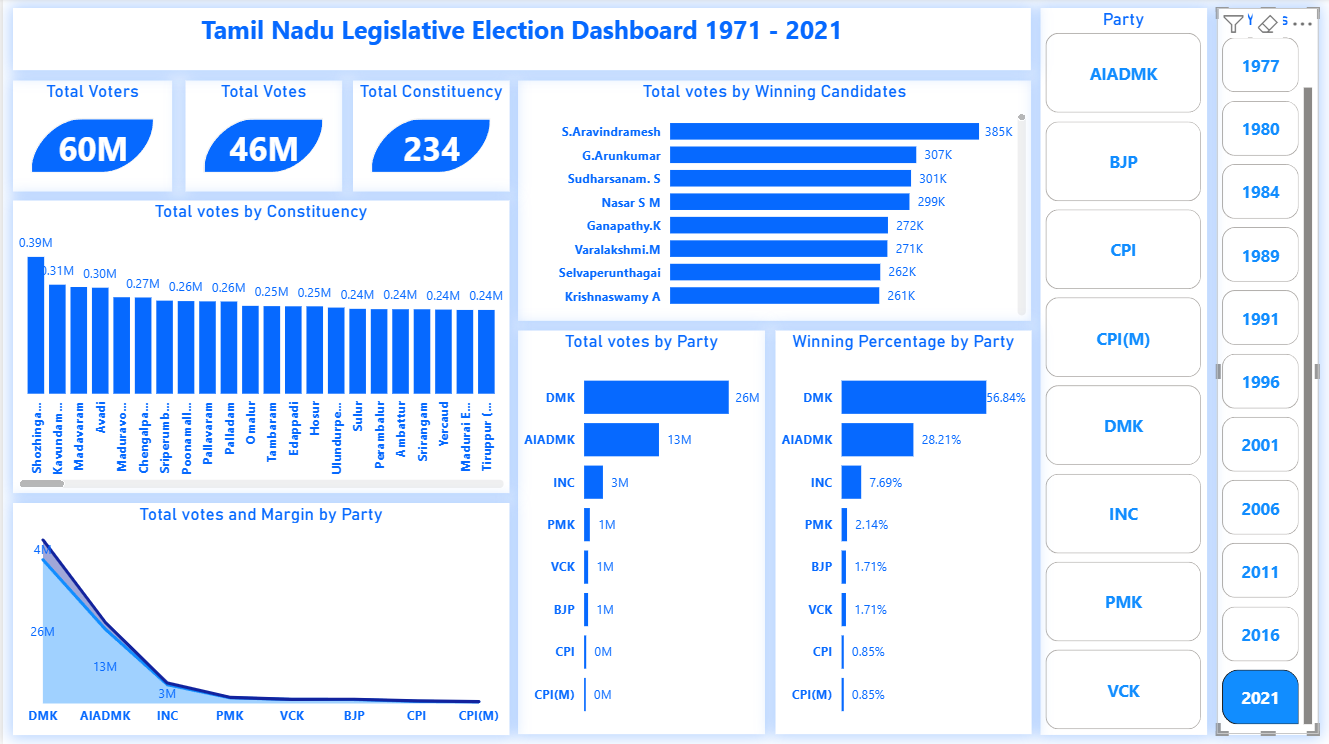

The dashboard page shown, as its layout file describes it:
{"tool":"powerbi","page":{"name":"Tamil Nadu Legislative Election Dashboard 1971 - 2021","canvas":[1280,720],"ordinal":0},"visuals":[{"type":"advancedSlicerVisual","fields":{"Values":["Sheet1.Years"]},"box":[1171.9,9.6,97.4,701.2],"z":0},{"type":"cardVisual","title":"Total Voters","fields":{"Data":["Sum(Sheet1.totelectors)"]},"box":[9.6,79.6,153.7,107],"z":1},{"type":"cardVisual","title":"Total Votes","fields":{"Data":["Sum(Sheet1.totvotes)"]},"box":[175.6,79.6,150.9,107],"z":2},{"type":"barChart","title":"Total votes by Winning Candidates","fields":{"Category":["Sheet1.winning_cand"],"Y":["Sum(Sheet1.totvotes)"]},"box":[496.7,79.6,495.4,231.9],"z":3},{"type":"barChart","title":"Total votes by Party","fields":{"Category":["Sheet1.party"],"Y":["Sum(Sheet1.totvotes)"]},"box":[496.7,321.1,238.8,389.7],"z":4},{"type":"cardVisual","title":"Total Constituency","fields":{"Data":["Count(Sheet1.ac_no)"]},"box":[337.6,79.6,150.9,107],"z":5},{"type":"advancedSlicerVisual","title":"Party","fields":{"Values":["Sheet1.party"]},"box":[1001.7,9.6,160.5,701.2],"z":6},{"type":"clusteredColumnChart","title":"Total votes by Constituency","fields":{"Category":["Sheet1.ac_name"],"Y":["Sum(Sheet1.totvotes)"]},"box":[9.6,194.9,478.9,282.7],"z":7},{"type":"barChart","title":"Winning Percentage by Party","fields":{"Category":["Sheet1.party"],"Y":["Sum(Sheet1.winning_percentage)"]},"box":[745.1,321.1,247,389.7],"z":8},{"type":"stackedAreaChart","title":"Total votes and Margin by Party","fields":{"Y":["Sum(Sheet1.totvotes)","Sum(Sheet1.margin)"],"Category":["Sheet1.party"]},"box":[9.6,487.1,478.9,223.7],"z":9},{"type":"textbox","box":[9.6,9.6,982.5,60.4],"z":10}]}

Visuals, with their boxes in screenshot pixels (x1, y1, x2, y2), scaled from the page's 1280x720 canvas onto the 1329x744 screenshot:
advancedSlicerVisual - Sheet1.Years: x1=1217, y1=10, x2=1318, y2=734
"Total Voters" cardVisual: x1=10, y1=82, x2=170, y2=193
"Total Votes" cardVisual: x1=182, y1=82, x2=339, y2=193
"Total votes by Winning Candidates" barChart: x1=516, y1=82, x2=1030, y2=322
"Total votes by Party" barChart: x1=516, y1=332, x2=764, y2=734
"Total Constituency" cardVisual: x1=351, y1=82, x2=507, y2=193
"Party" advancedSlicerVisual: x1=1040, y1=10, x2=1207, y2=734
"Total votes by Constituency" clusteredColumnChart: x1=10, y1=201, x2=507, y2=494
"Winning Percentage by Party" barChart: x1=774, y1=332, x2=1030, y2=734
"Total votes and Margin by Party" stackedAreaChart: x1=10, y1=503, x2=507, y2=734
textbox: x1=10, y1=10, x2=1030, y2=72
